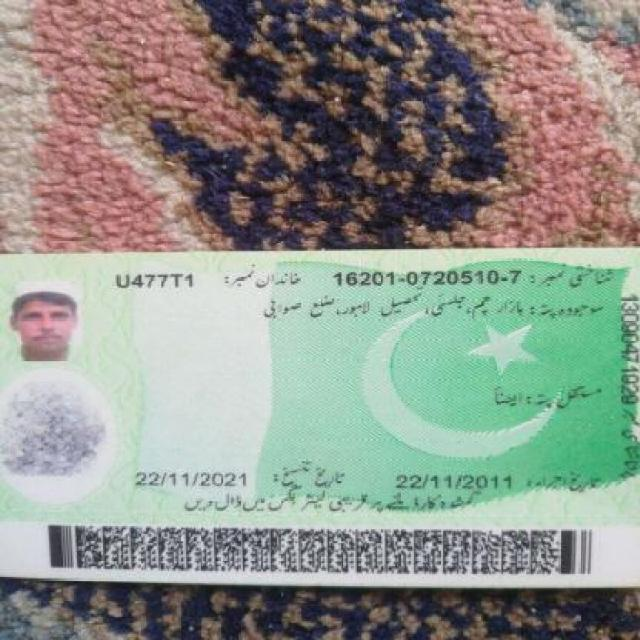Back: (5, 251, 632, 594)
